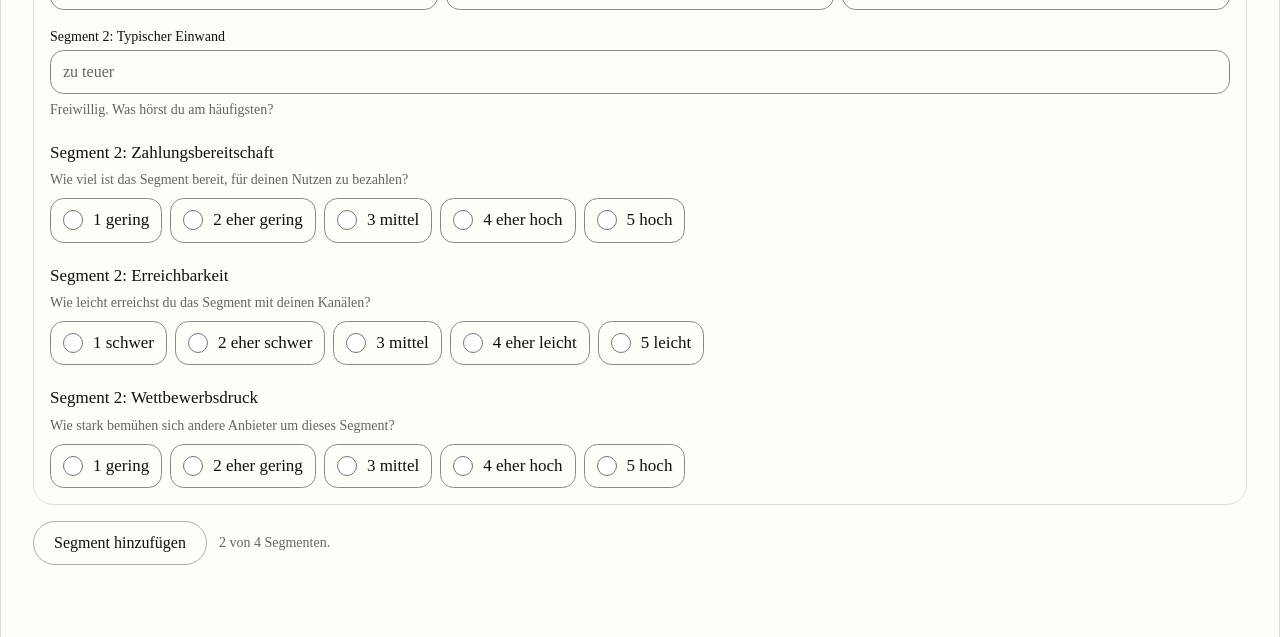
Test case: Zielgruppen-Segmente: Formular › fügt Segmente hinzu und entfernt sie, höchstens vier und mindestens eines
(page scrolled)
Click the button "Segment hinzufügen".
click(120, 543)  # box [33, 521, 207, 565]
(page scrolled)
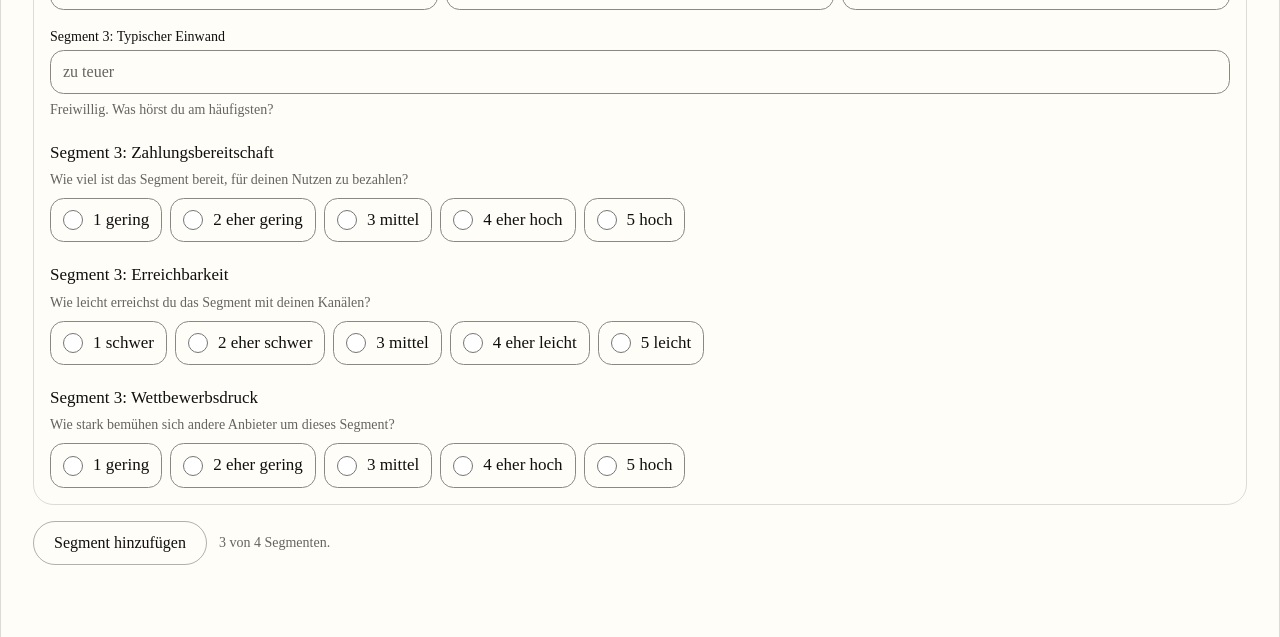
Click the button "Segment hinzufügen".
click(120, 543)  # box [33, 521, 207, 565]
(page scrolled)
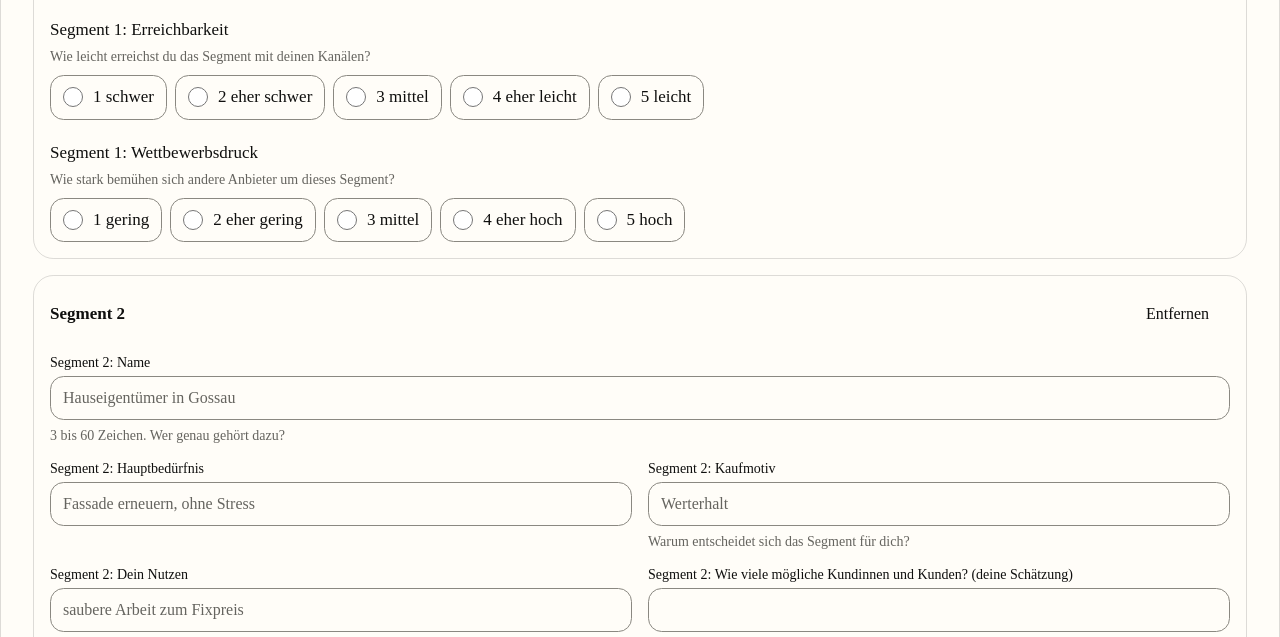
Type "Hausverwaltungen" into the field labelled "Segment 2: Name".
click(640, 398); type("Hausverwaltungen")  # box [50, 376, 1230, 420]
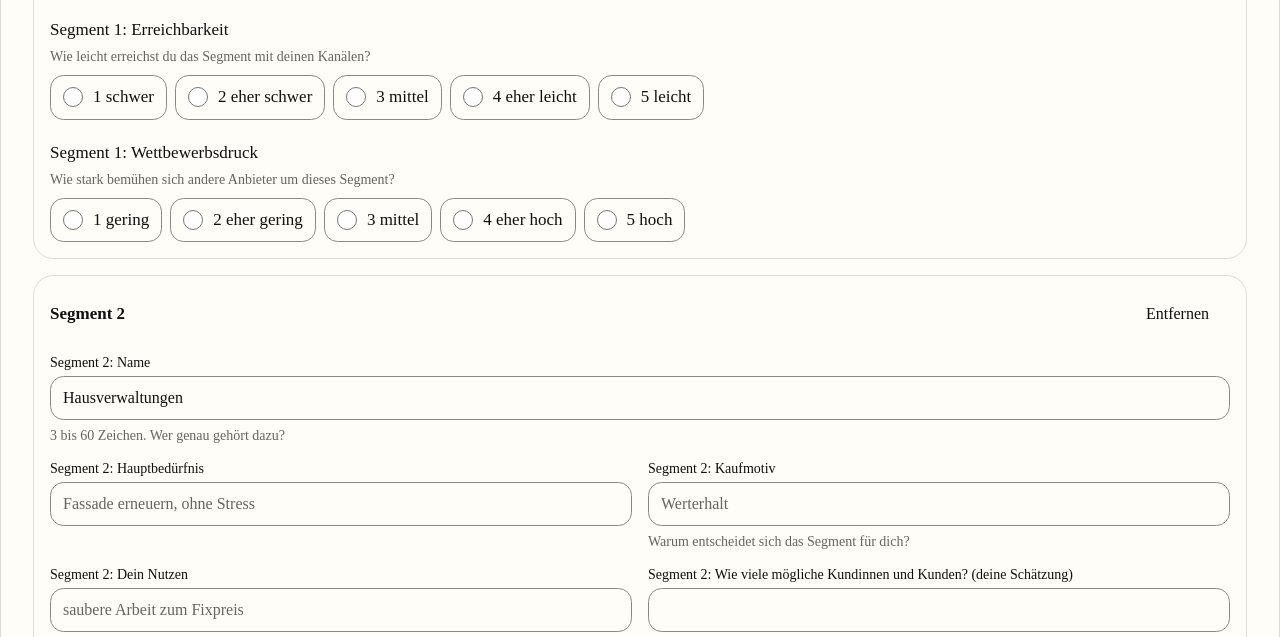
Click the button with aria-label "Entfernen: Segment 2".
click(1177, 314)  # box [1125, 292, 1230, 336]
(page scrolled)
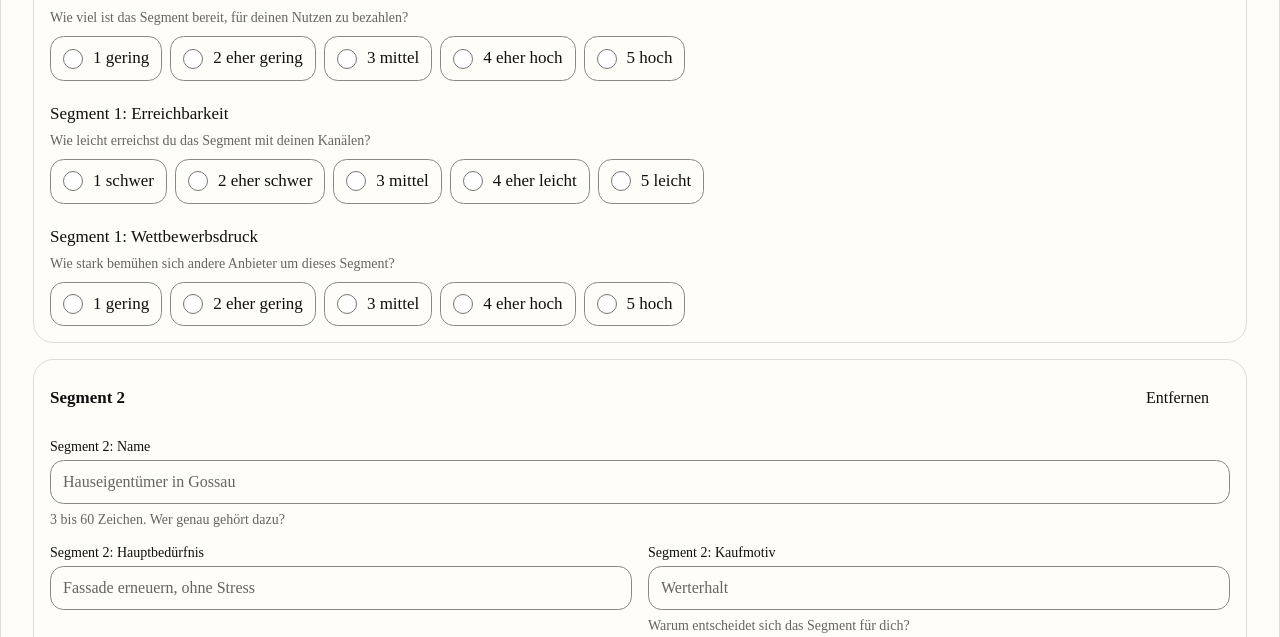
Expected: the field showing "Hausverwaltungen" is not shown
Click the button with aria-label "Entfernen: Segment 2".
click(1177, 398)  # box [1125, 376, 1230, 420]
(page scrolled)
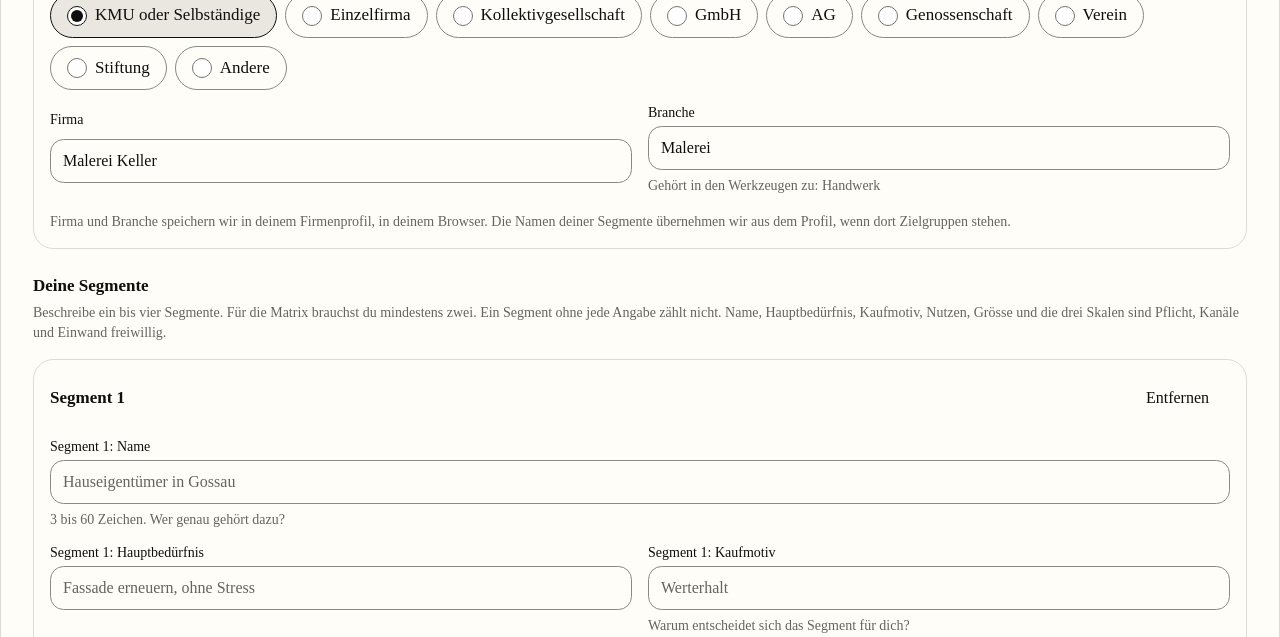
Click the button with aria-label "Entfernen: Segment 1".
click(1177, 398)  # box [1125, 376, 1230, 420]
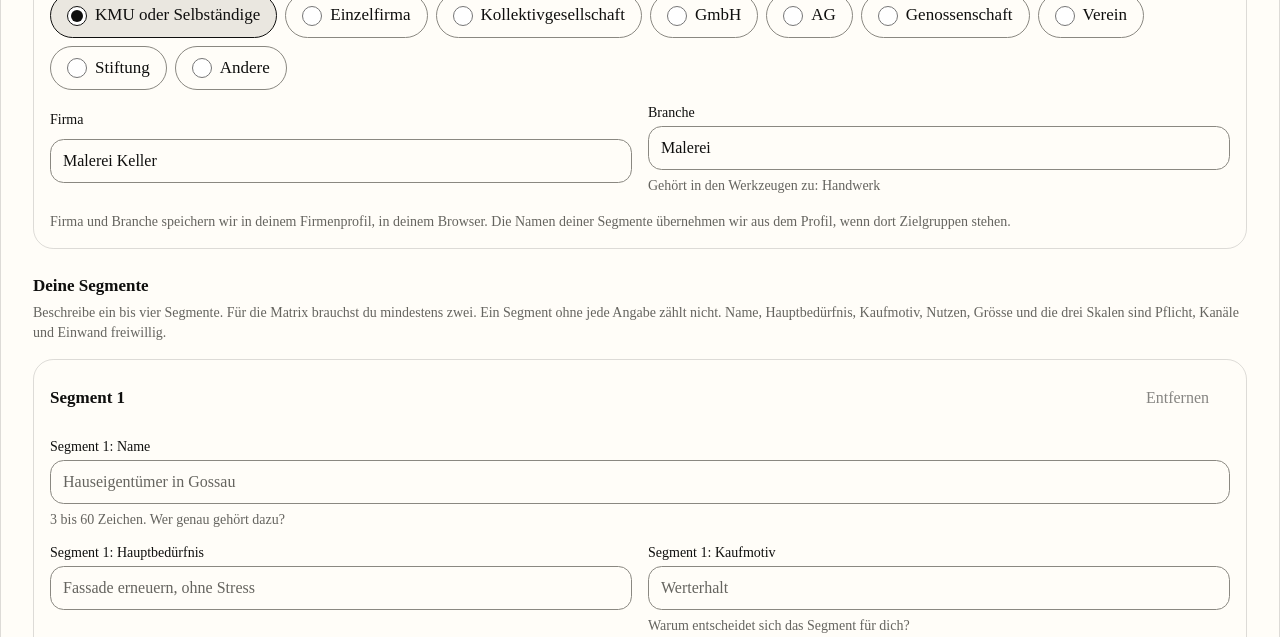
Now the button with aria-label "Entfernen: Segment 1" is disabled, box [1125, 376, 1230, 420]
